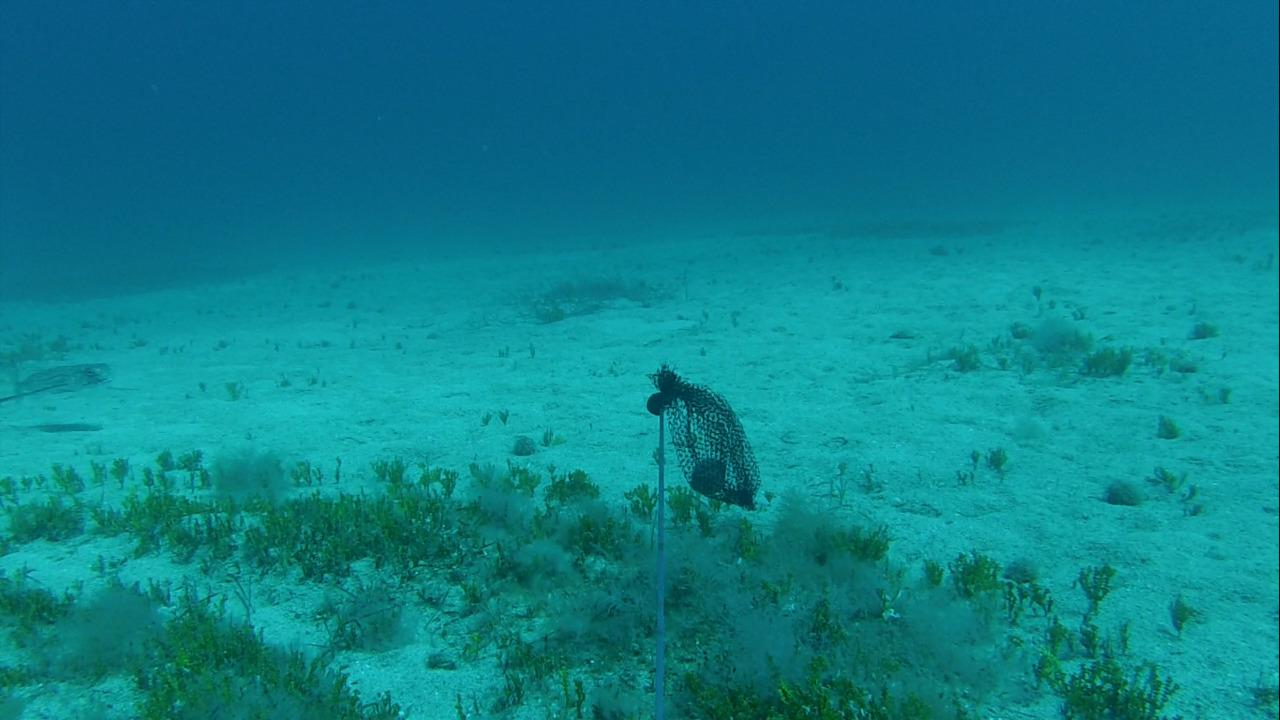dactylopterus: (4, 356, 123, 400)
